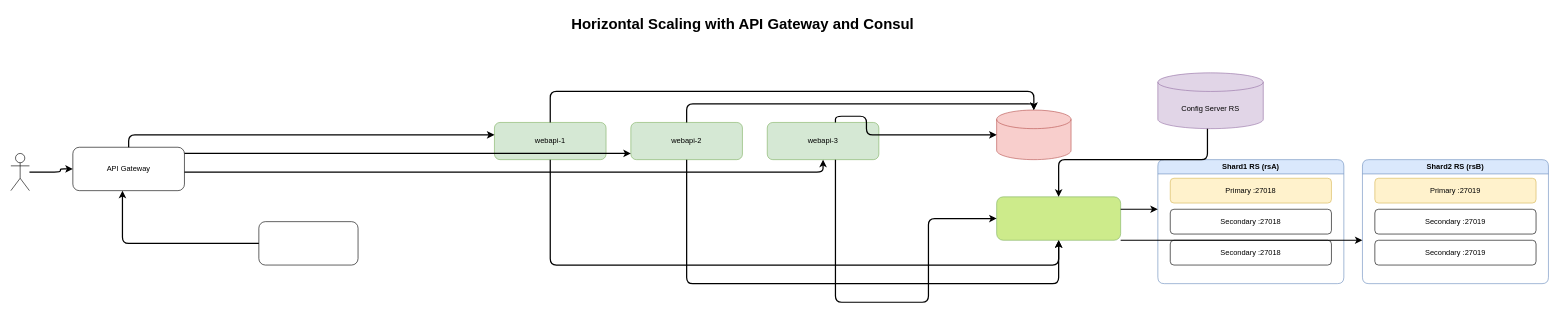
This 1559x318 diagram has some shape labels left out. Here are the shapes that lost their labels. From the top down, the centre of each, then its label:
At [1033,134]: "Redis".
At [19,172]: "User".
At [1058,218]: "mongos (router)".
At [308,243]: "Consul".
